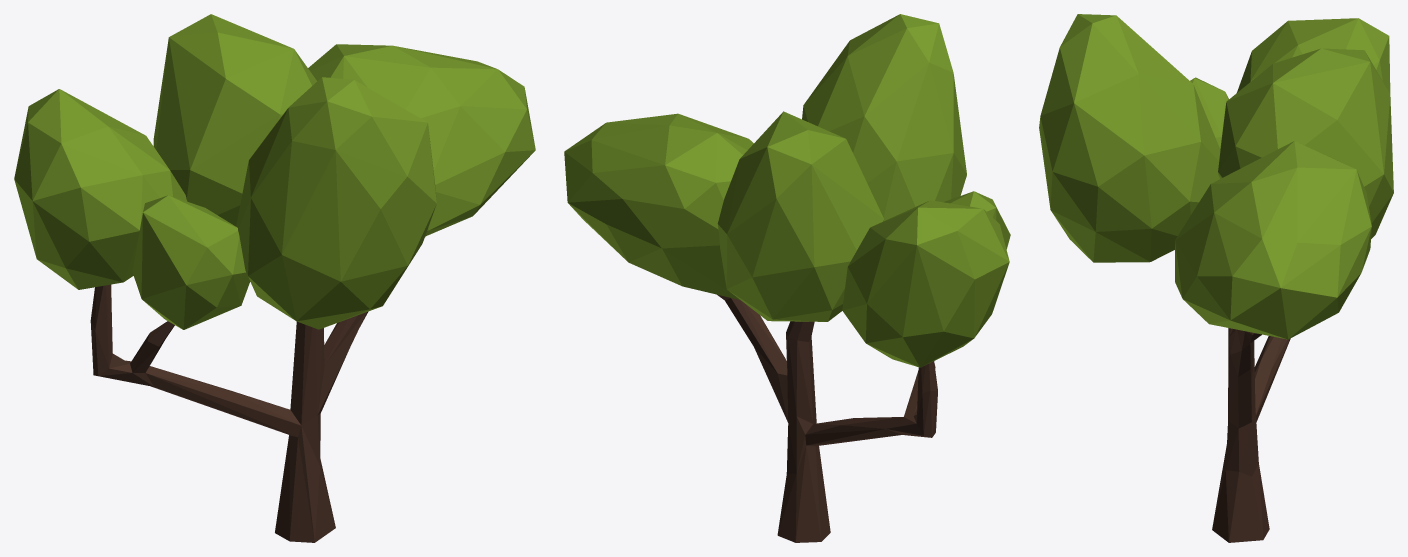
File: SM_tree_greek_02.fbx
The picture shows the model from 3 angles, left to right: view 1: azimuth 30°, elevation 25°; view 2: azimuth 150°, elevation 25°; view 3: azimuth 270°, elevation 25°; orthographic projection. The views are drawn at different scales.
Visible parts, largest first — view 1: Object048; view 2: Object048; view 3: Object048.
Boxes of the visible parts, x1,y1,x2,y2 form: Object048: [14, 14, 535, 542]; Object048: [564, 14, 1010, 542]; Object048: [1039, 14, 1393, 542].
Size of the model in its own units: 184 by 185 by 120.
